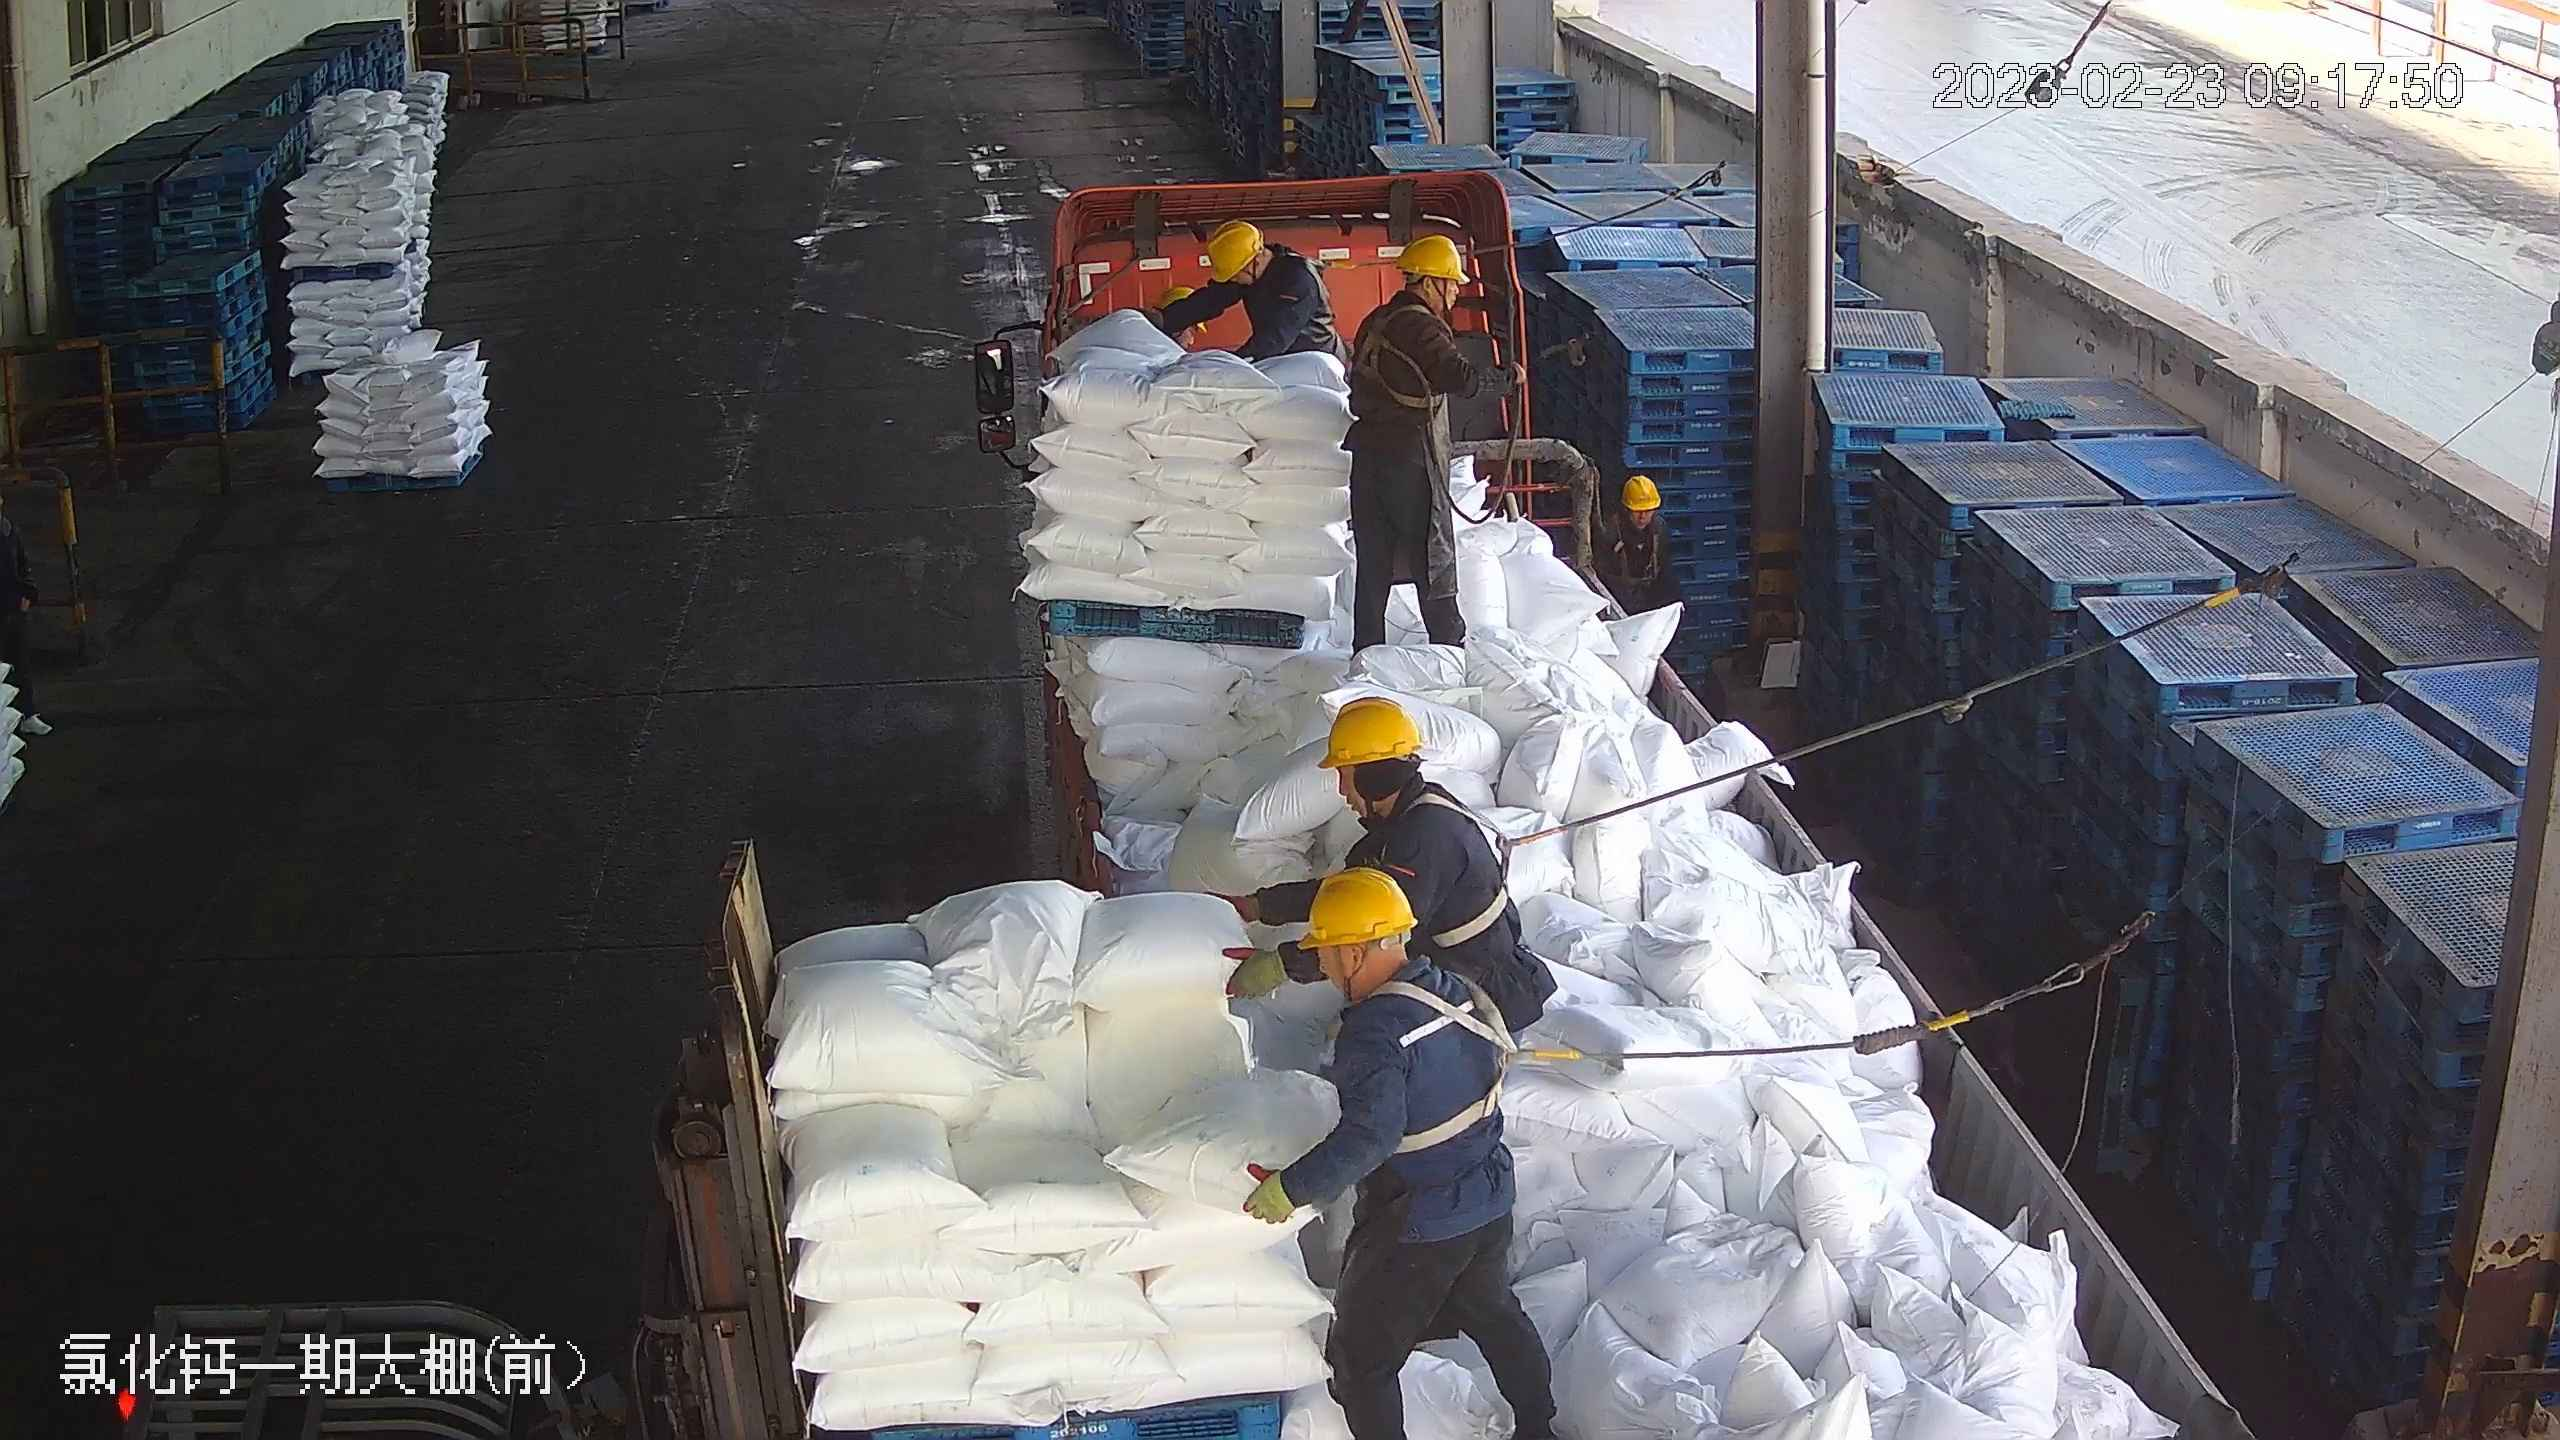belt: (1378, 985, 1573, 1147), (1407, 789, 1568, 941), (1349, 306, 1440, 408), (1613, 519, 1663, 590), (1290, 242, 1353, 294)
head: (1291, 870, 1477, 1080), (1312, 695, 1484, 879), (1366, 239, 1476, 368), (1197, 220, 1315, 314), (1597, 473, 1675, 563)
helmet: (1370, 231, 1477, 359), (1300, 867, 1418, 945), (1318, 694, 1423, 765), (1398, 231, 1471, 282), (1202, 219, 1266, 277), (1617, 470, 1664, 510)
people: (1262, 872, 1559, 1436), (1349, 233, 1525, 659), (1590, 464, 1679, 608)
truck: (977, 170, 2261, 1440)
